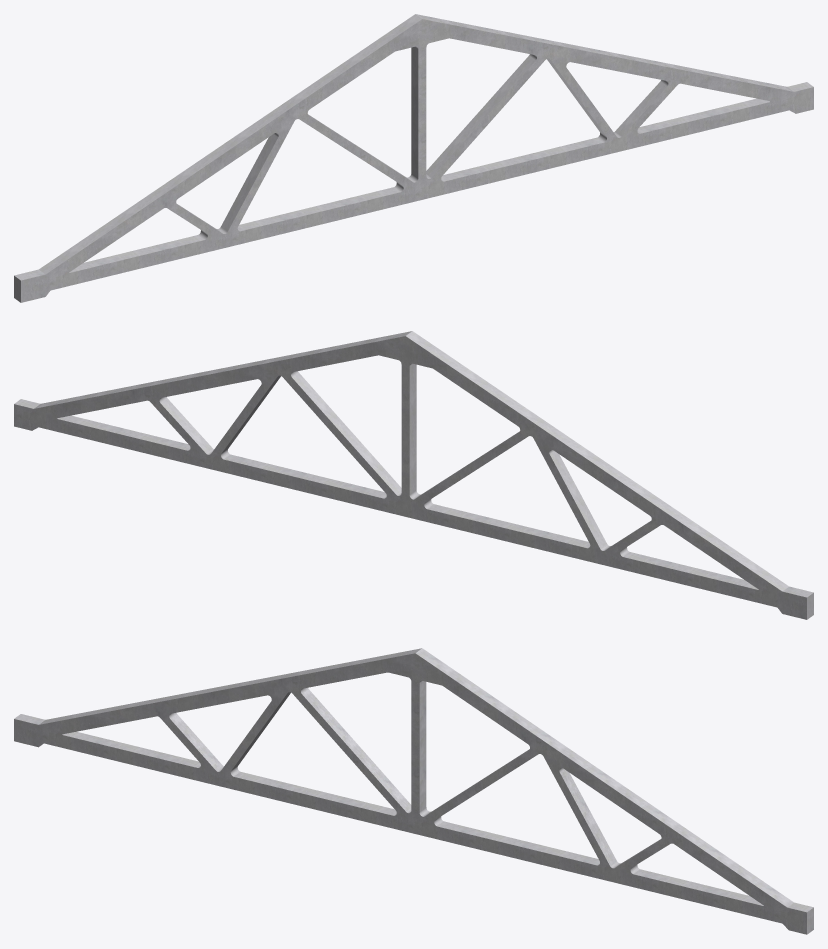
Rendered from reinforced-concrete.glb.
The picture shows the model from 3 angles, top to bottom: view 1: azimuth 30°, elevation 25°; view 2: azimuth 150°, elevation 25°; view 3: azimuth 330°, elevation 25°; orthographic projection.
Visible parts, largest first — view 1: 钢筋混凝土屋架; view 2: 钢筋混凝土屋架; view 3: 钢筋混凝土屋架.
Boxes of the visible parts, box(x1,y1,x2,y2) form: 钢筋混凝土屋架: box(14, 14, 813, 302); 钢筋混凝土屋架: box(14, 331, 813, 619); 钢筋混凝土屋架: box(14, 648, 813, 934).
Size of the model in its own units: 19.83 by 4.44 by 0.3002.
Materials: 1 (1 with a texture image).
